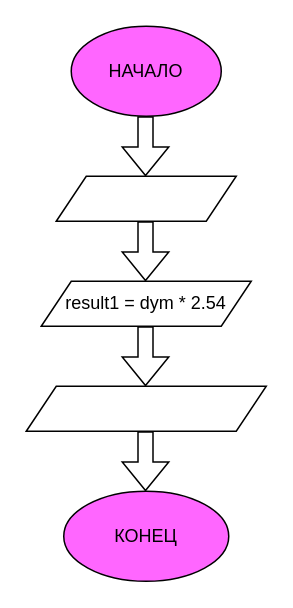
This 293x608 diagram has some shape labels left out. The shapes that lost their labels are listed below. From the top down, each one's box as (x1, y1, x2, y2) in pixels, then its label:
(55, 175, 236, 221): dym
(25, 385, 266, 431): result2 = dym * 2.32166
